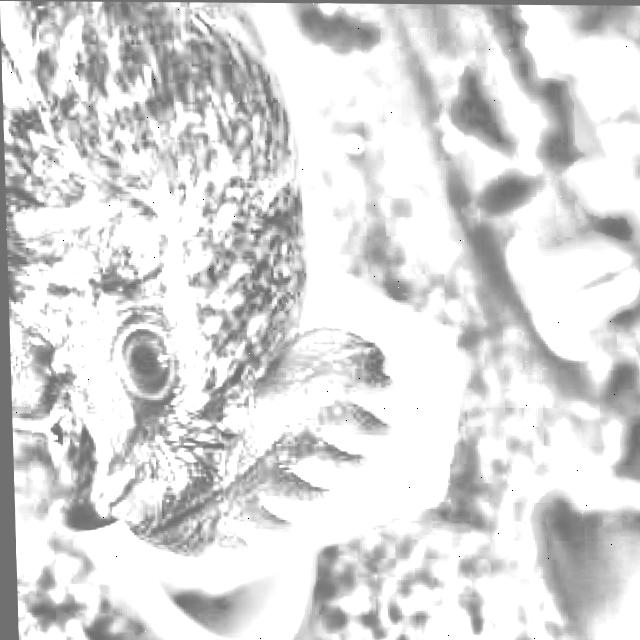Healthy: (90, 294, 195, 437)
